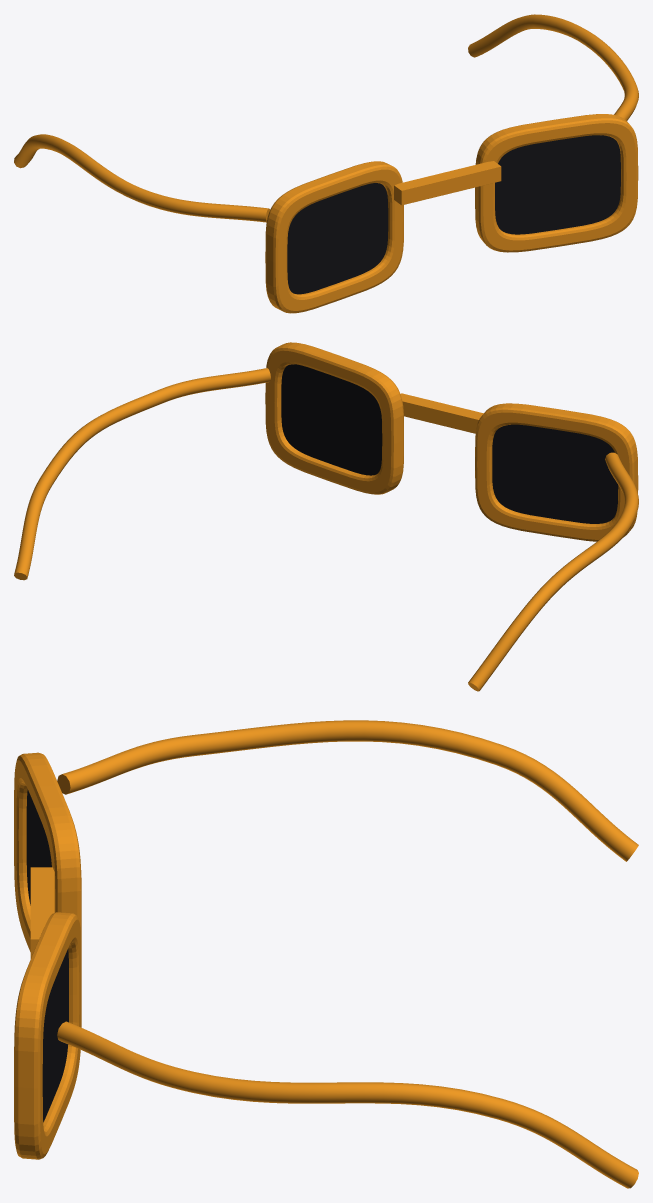
Rendered from lentes.glb.
The picture shows the model from 3 angles, top to bottom: view 1: azimuth 30°, elevation 25°; view 2: azimuth 150°, elevation 25°; view 3: azimuth 270°, elevation 25°; orthographic projection. The views are drawn at different scales.
Parts seen in each view (by area): view 1: accesorio_lentes; view 2: accesorio_lentes; view 3: accesorio_lentes.
Boxes of the visible parts, left/top/right/bottom form: accesorio_lentes: left=14, top=14, right=638, bottom=313; accesorio_lentes: left=14, top=342, right=638, bottom=691; accesorio_lentes: left=14, top=720, right=638, bottom=1188.
Size of the model in its own units: 0.6605 by 0.1498 by 0.4703.
